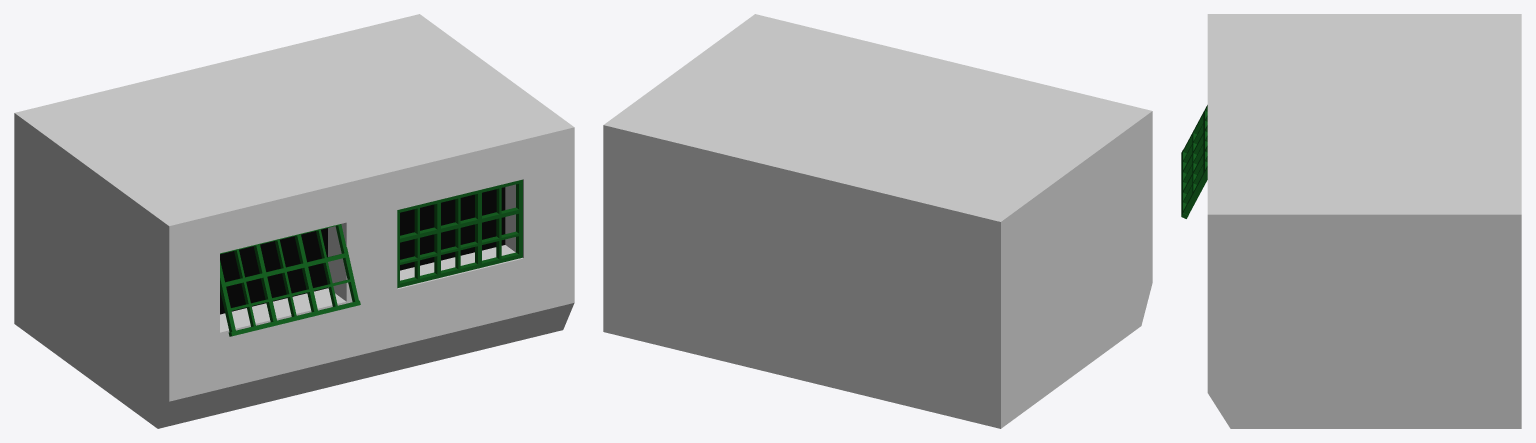
The model's file is apartment_002.glb.
The picture shows the model from 3 angles, left to right: view 1: azimuth 30°, elevation 25°; view 2: azimuth 150°, elevation 25°; view 3: azimuth 270°, elevation 25°; orthographic projection. The views are drawn at different scales.
Parts seen in each view (by area): view 1: Main_Unit, Window_Frame_Right, Window_Frame_Left, Interior_Plane_Left, Interior_Plane_Right; view 2: Main_Unit; view 3: Main_Unit, Window_Frame_Left.
Part boxes in pixels (<box>): Main_Unit: <box>14,14,574,428</box>; Window_Frame_Right: <box>397,179,522,288</box>; Window_Frame_Left: <box>220,224,360,336</box>; Interior_Plane_Left: <box>220,228,327,314</box>; Interior_Plane_Right: <box>400,187,505,270</box>; Main_Unit: <box>603,14,1152,428</box>; Main_Unit: <box>1207,14,1521,428</box>; Window_Frame_Left: <box>1181,105,1207,218</box>.
Bounding box in the file's own units: 18.21 × 9.06 × 13.06.
